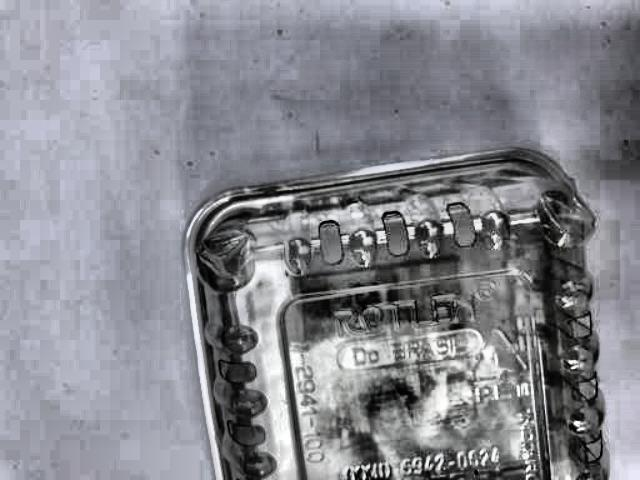Plastic: (176, 144, 611, 480)
